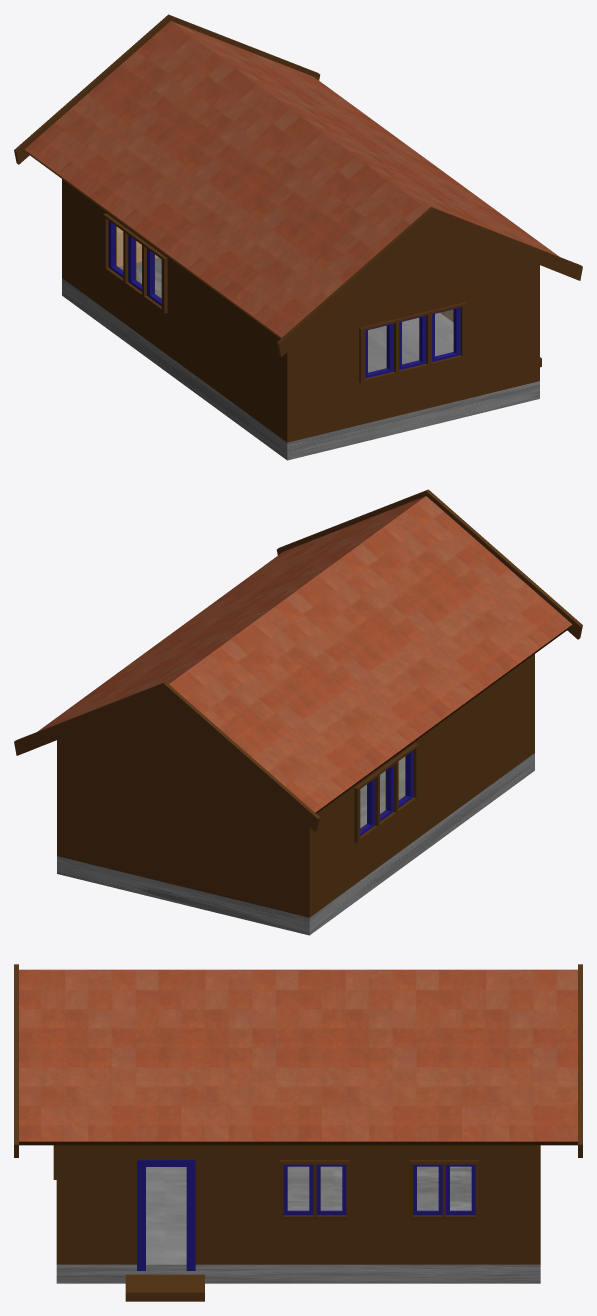
The model's file is small-cottage.fbx.
The picture shows the model from 3 angles, top to bottom: view 1: azimuth 30°, elevation 25°; view 2: azimuth 150°, elevation 25°; view 3: azimuth 270°, elevation 25°; orthographic projection. The views are drawn at different scales.
Parts seen in each view (by area): view 1: roof, frame, base, roof-side.001, roof-side.002, window-side-frame, window-rear-frame, window-side-frame-interior1, window-side-frame-interior3, window-side-frame-interior2; view 2: roof, frame, base, roof-side.002, roof-side.001, window-rear-frame; view 3: roof, frame, base, door-frame, base-step, window-front1-frame, window-front2-frame, roof-side.001, roof-side.002, window-front1-interior1, window-front1-interior2, window-front2-interior1 (+1 smaller).
Boxes of the visible parts, x1,y1,x2,y2 form: roof: (24,21,559,338); frame: (62,179,539,442); base: (62,257,539,460); roof-side.001: (276,207,582,356); roof-side.002: (14,14,320,164); window-side-frame: (359,302,466,383); window-rear-frame: (103,213,167,313); window-side-frame-interior1: (365,323,393,378); window-side-frame-interior3: (432,307,460,361); window-side-frame-interior2: (399,315,426,369); roof: (37,496,572,813); frame: (57,654,534,917); base: (57,753,534,935); roof-side.002: (14,682,320,831); roof-side.001: (276,489,582,639); window-rear-frame: (354,743,418,843); roof: (19,969,577,1145); frame: (56,1145,540,1264); base: (56,1166,540,1283); door-frame: (137,1159,195,1270); base-step: (125,1274,204,1301); window-front1-frame: (280,1160,349,1219); window-front2-frame: (409,1160,478,1219); roof-side.001: (14,964,18,1157); roof-side.002: (578,964,582,1157); window-front1-interior1: (283,1164,313,1215); window-front1-interior2: (316,1164,346,1215); window-front2-interior1: (413,1164,442,1215).
Size of the model in its own units: 686 by 490 by 999.
